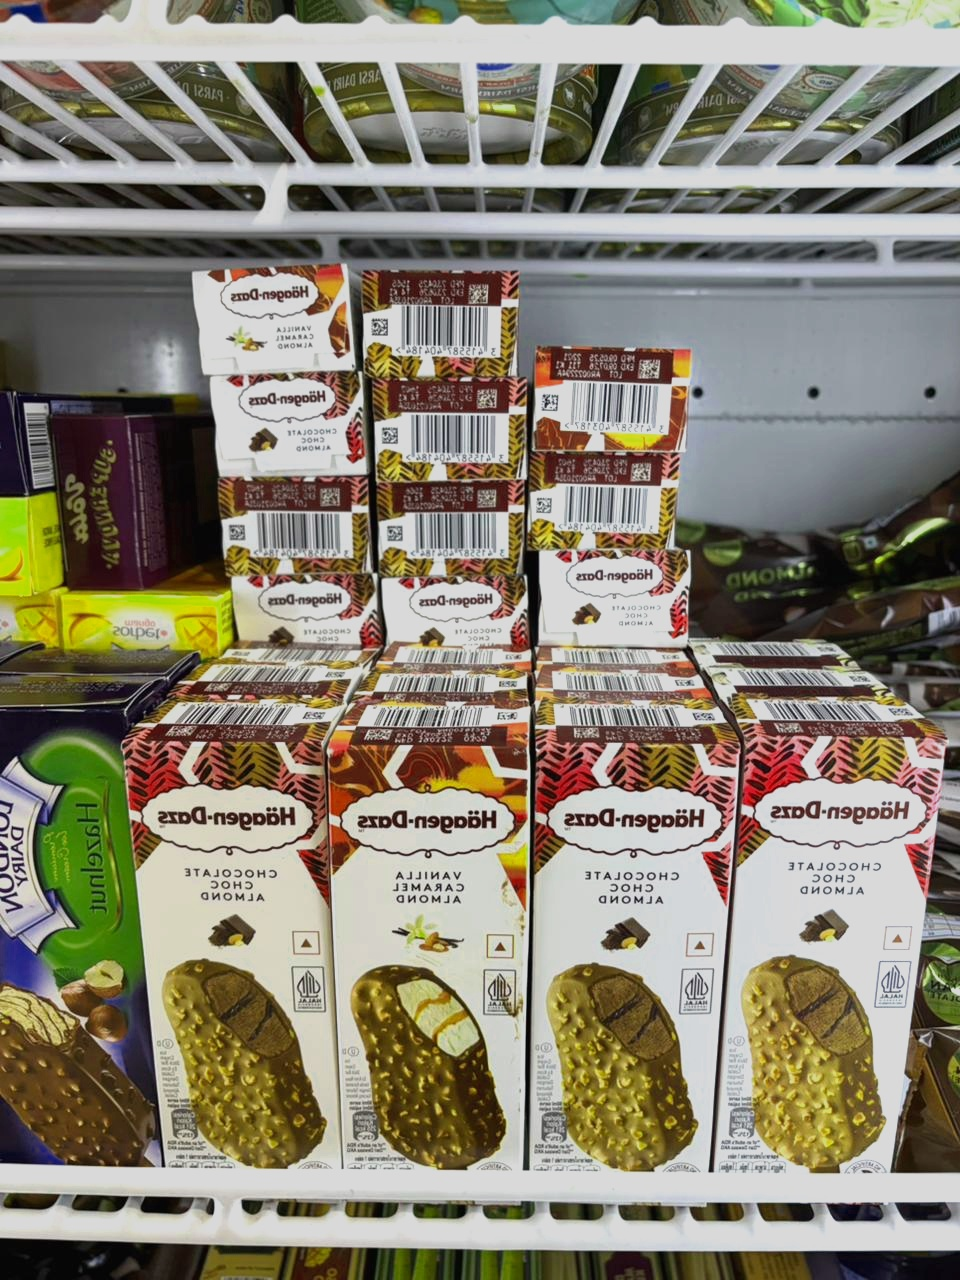Haagen-Dazs IceCream Bars: (128, 692, 366, 1182), (709, 694, 939, 1187), (530, 693, 722, 1186), (337, 696, 526, 1186), (207, 365, 383, 482), (179, 268, 372, 374), (525, 544, 715, 651), (368, 369, 533, 491), (528, 347, 702, 458), (218, 471, 372, 592), (358, 267, 530, 374), (523, 447, 682, 562), (377, 468, 527, 587), (376, 557, 533, 649), (231, 568, 389, 651)
